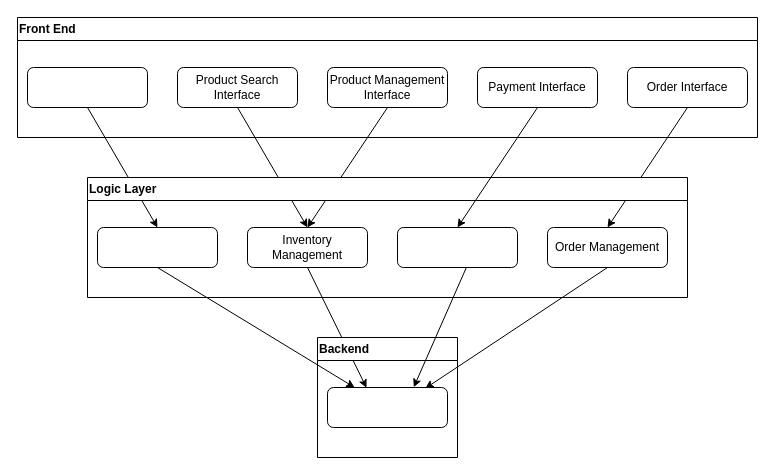
Some shapes in this 775 by 475 pixel diagram are drawn without their labels. The centre of each missing label's shape, as x and y in pixels:
"Account Management Interface" goes at [87,87].
"Database" goes at [387,407].
"Payment Management" goes at [457,247].
"User Management" goes at [157,247].
